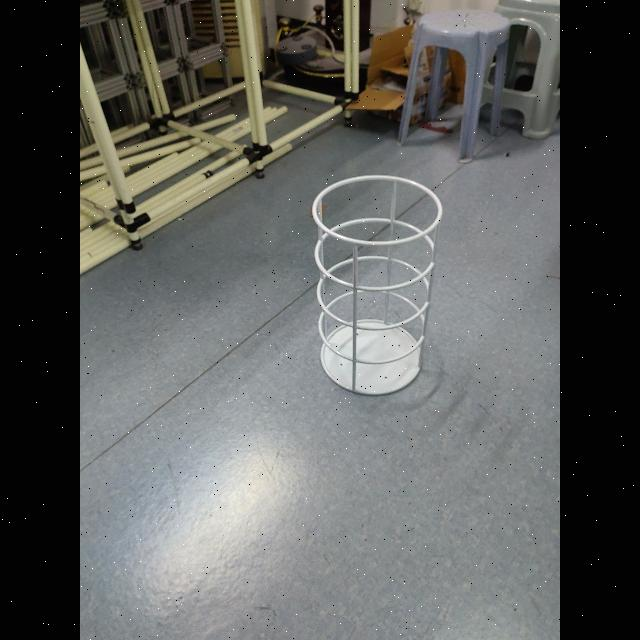S: (306, 170, 448, 400)
